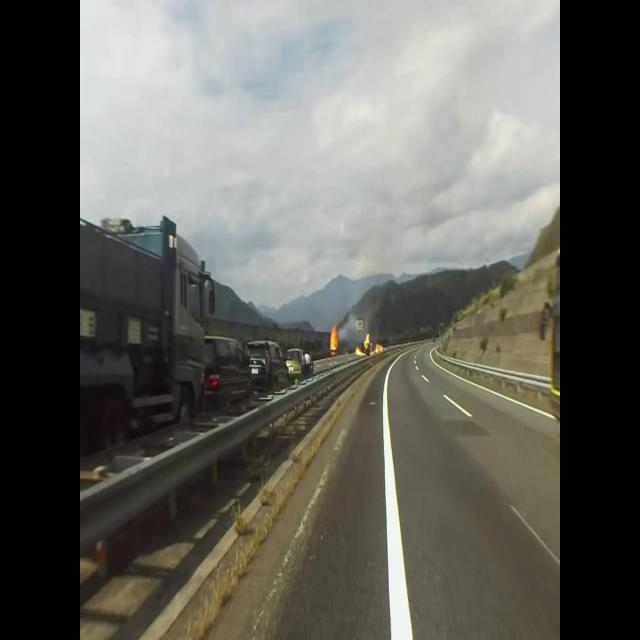Fire: (354, 335, 384, 360), (329, 327, 339, 352)
